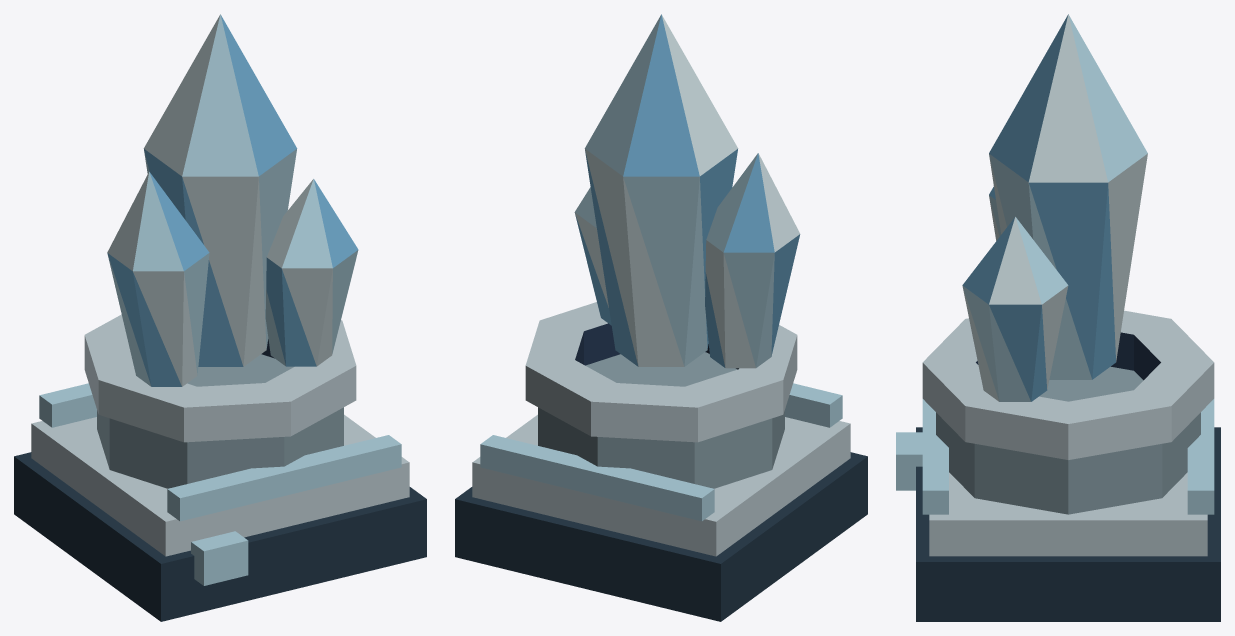
The model's file is module-frost.glb.
The picture shows the model from 3 angles, left to right: view 1: azimuth 30°, elevation 25°; view 2: azimuth 150°, elevation 25°; view 3: azimuth 270°, elevation 25°; orthographic projection. The views are drawn at different scales.
Parts seen in each view (by area): view 1: 霜棱反应器; view 2: 霜棱反应器; view 3: 霜棱反应器.
Boxes of the visible parts, x1,y1,x2,y2 form: 霜棱反应器: (14,14,426,621); 霜棱反应器: (455,14,867,621); 霜棱反应器: (896,14,1220,621).
Bounding box in the file's own units: 0.24 × 0.45 × 0.245.
